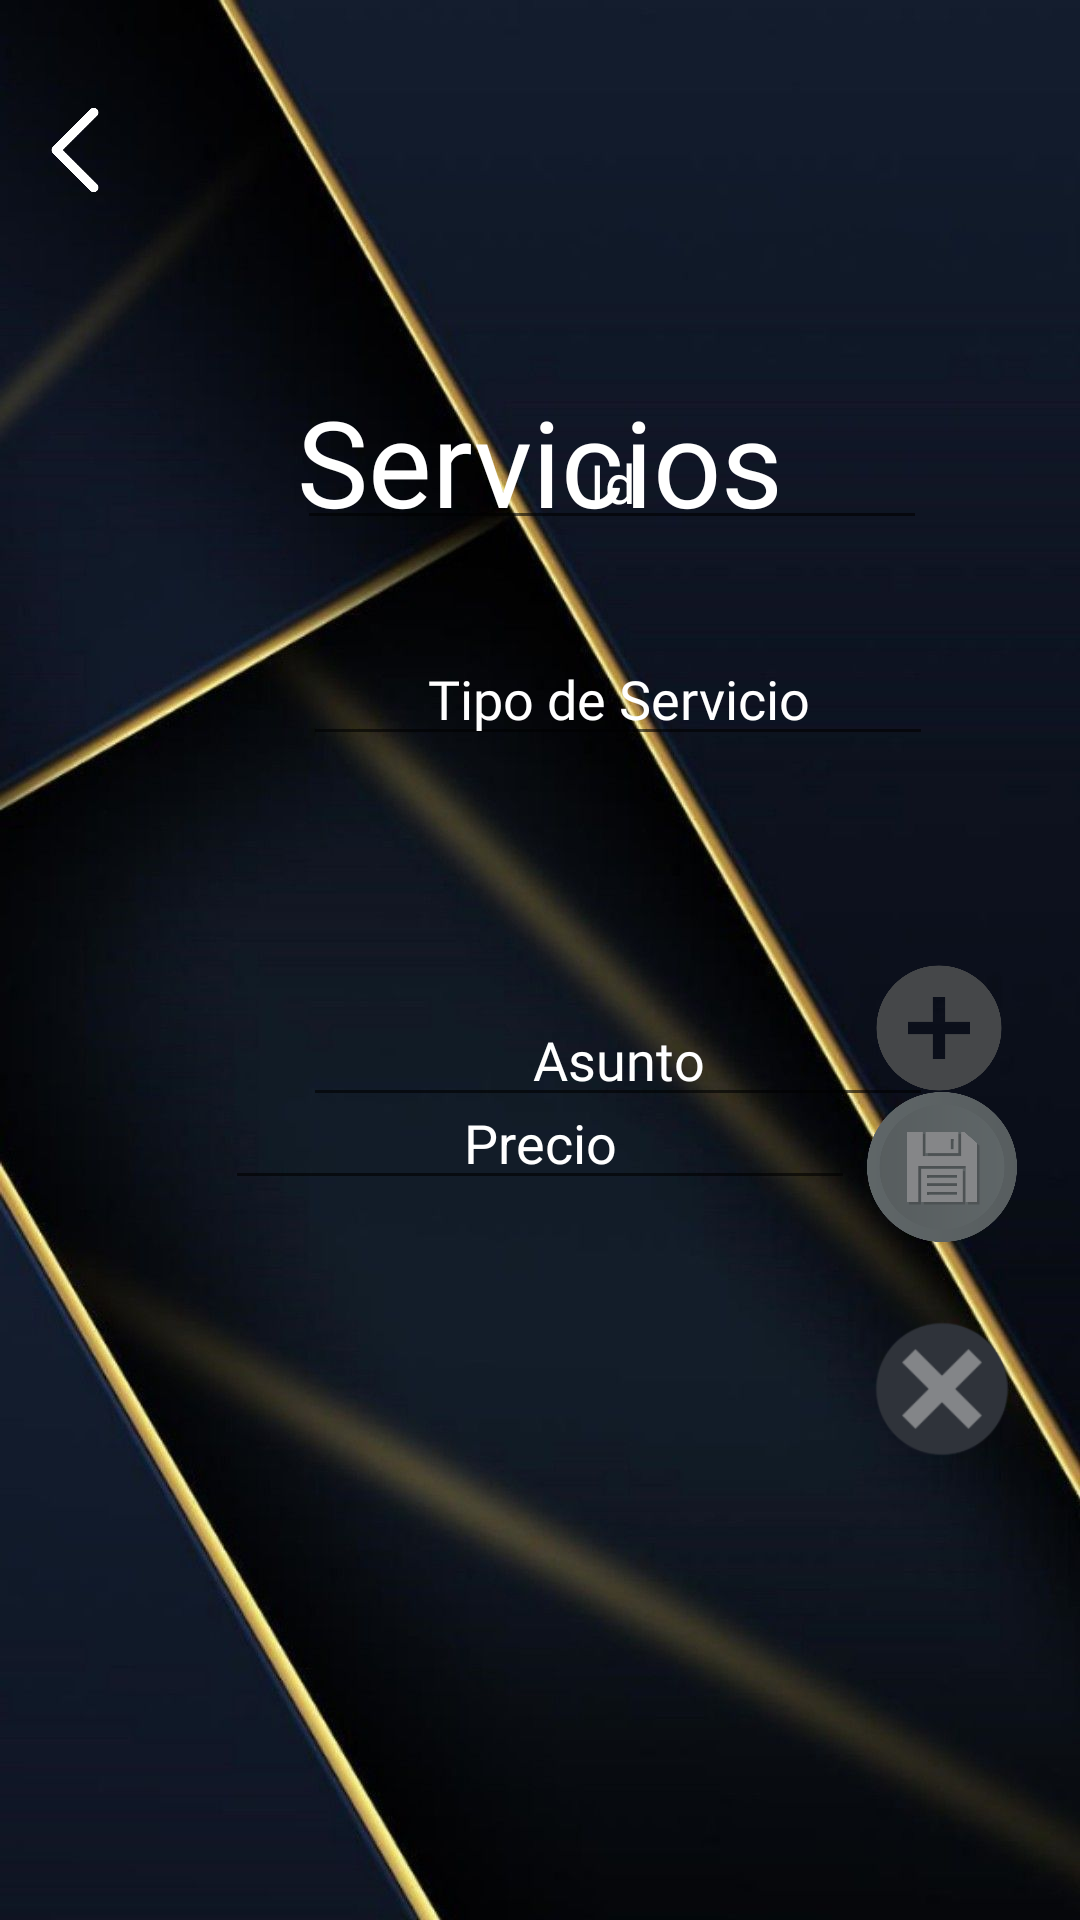

Icons on this 1080px x 1920px Android screen, each with the point to tap as (x=x, y=y):
agregar: (x=939, y=1028)
eliminar: (x=947, y=1384)
guardar: (x=942, y=1167)
